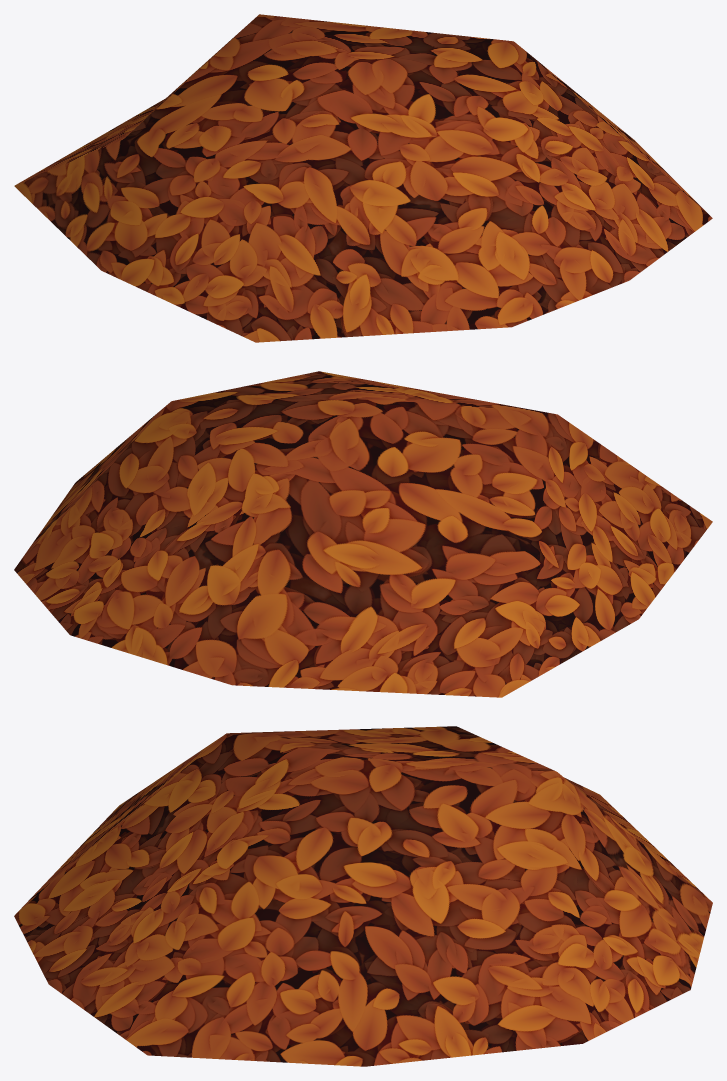
The model's file is SM_PROP_leafpile_01.fbx.
The picture shows the model from 3 angles, top to bottom: view 1: azimuth 30°, elevation 25°; view 2: azimuth 150°, elevation 25°; view 3: azimuth 270°, elevation 25°; orthographic projection. The views are drawn at different scales.
Visible parts, largest first — view 1: SM_PROP_leafpile_01; view 2: SM_PROP_leafpile_01; view 3: SM_PROP_leafpile_01.
Part boxes in pixels (x1=…): SM_PROP_leafpile_01: x1=14, y1=14, x2=712, y2=342; SM_PROP_leafpile_01: x1=14, y1=371, x2=712, y2=697; SM_PROP_leafpile_01: x1=14, y1=726, x2=712, y2=1066.
Size of the model in its own units: 222 by 57.99 by 232.
